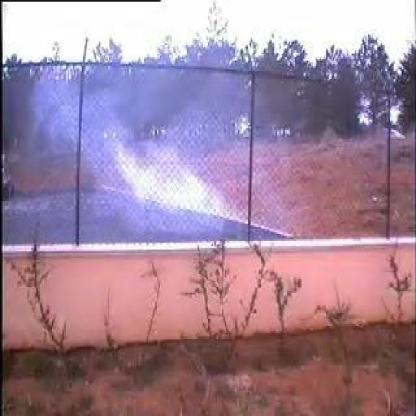-: (79, 74, 249, 240)
